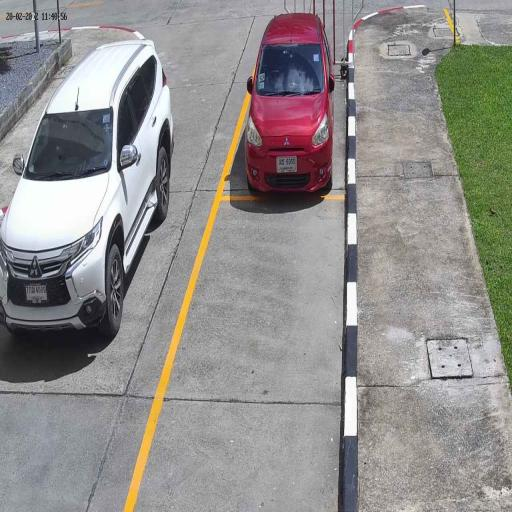car: (0, 38, 178, 341), (243, 12, 336, 198)
